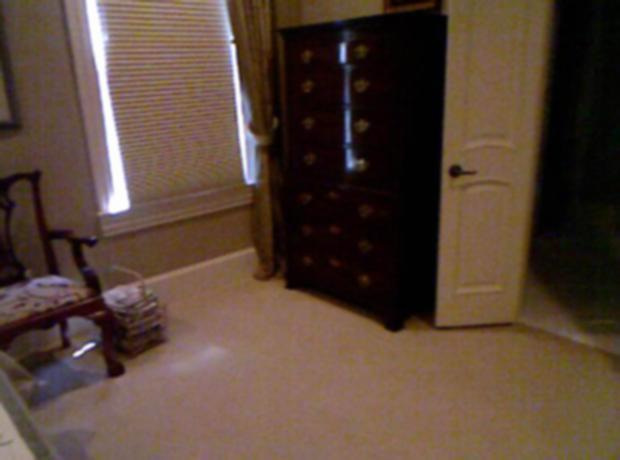Armario: (281, 11, 442, 320)
